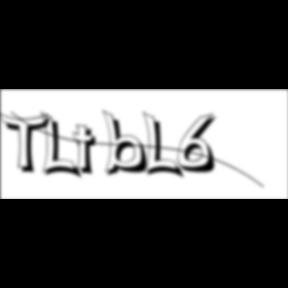6: (178, 112, 222, 176)
L: (41, 110, 85, 182), (143, 110, 187, 182)
T: (0, 112, 56, 176)
b: (101, 109, 154, 179)
t: (74, 124, 104, 179)
